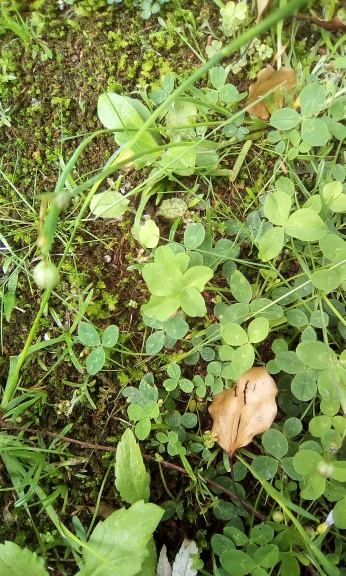4leaf: (139, 261, 214, 322)
